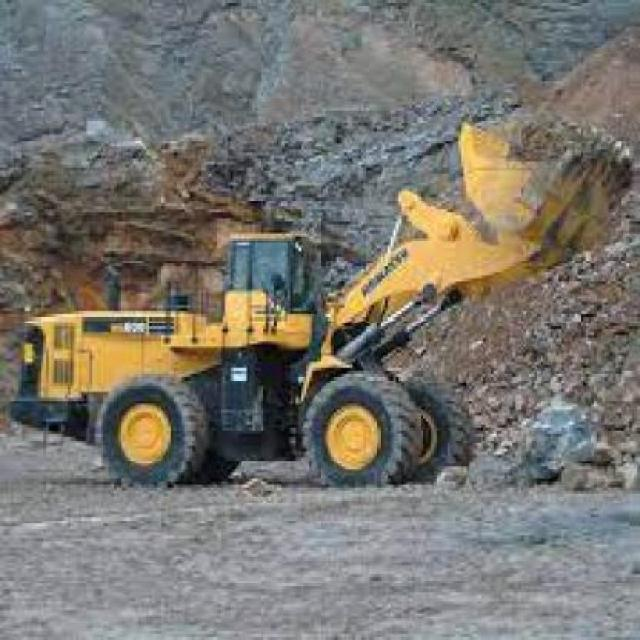buldozerpayloadergrader: (6, 117, 628, 489)
